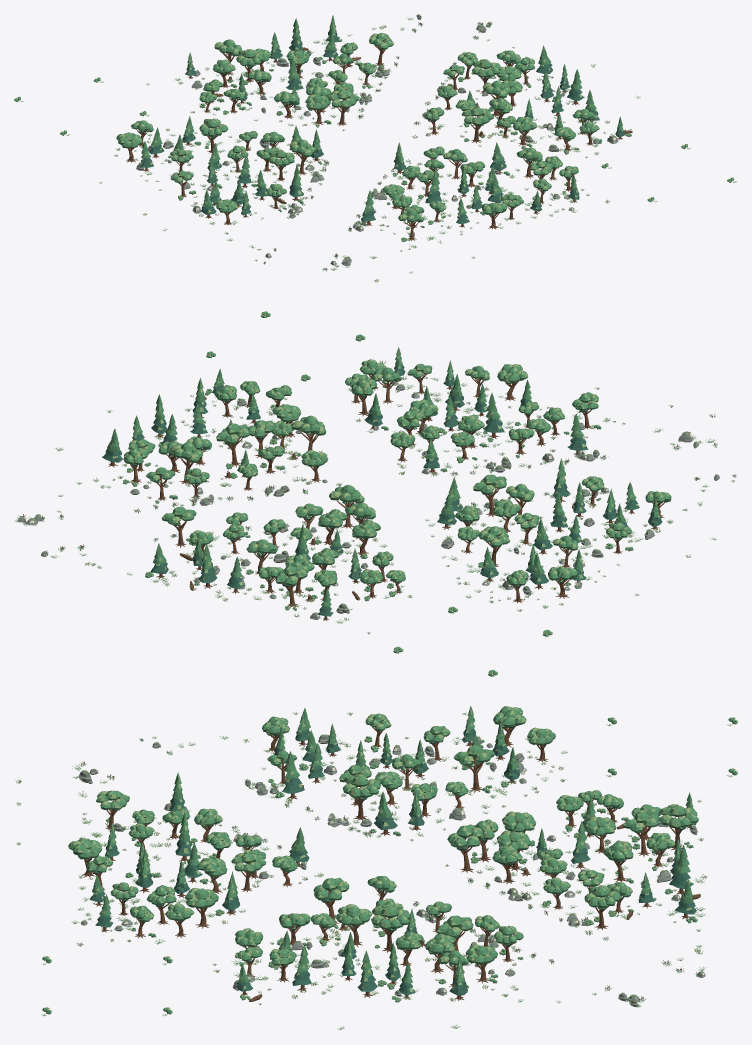
Rendered from foliage.glb.
The picture shows the model from 3 angles, top to bottom: view 1: azimuth 30°, elevation 25°; view 2: azimuth 150°, elevation 25°; view 3: azimuth 270°, elevation 25°; orthographic projection. The views are drawn at different scales.
Parts seen in each view (by area): view 1: tree_sage_elder / mesh.008, tree_sage_elder / mesh.021, tree_sage_elder / mesh.009, tree_sage_elder / mesh.006; view 2: tree_sage_elder / mesh.022, tree_sage_elder / mesh.021, tree_sage_elder / mesh.014, tree_sage_elder / mesh.011, tree_sage_elder / mesh.008; view 3: tree_sage_elder / mesh.022, tree_sage_elder / mesh.014, tree_sage_elder / mesh.011, tree_sage_elder / mesh.021, tree_sage_elder / mesh.010, tree_sage_elder / mesh.006, tree_sage_elder / mesh.008, tree_jade_canopy / mesh.014, tree_jade_canopy / mesh.022, tree_sage_elder / mesh.016, tree_windswept_oak / mesh.010, tree_sage_elder / mesh.023 (+14 smaller).
Part boxes in pixels (x1=…): tree_sage_elder / mesh.008: x1=461, y1=106, x2=494, y2=143; tree_sage_elder / mesh.021: x1=328, y1=90, x2=359, y2=125; tree_sage_elder / mesh.009: x1=471, y1=59, x2=500, y2=93; tree_sage_elder / mesh.006: x1=199, y1=118, x2=228, y2=153; tree_sage_elder / mesh.022: x1=216, y1=423, x2=249, y2=467; tree_sage_elder / mesh.021: x1=329, y1=484, x2=364, y2=528; tree_sage_elder / mesh.014: x1=275, y1=565, x2=307, y2=607; tree_sage_elder / mesh.011: x1=473, y1=474, x2=506, y2=517; tree_sage_elder / mesh.008: x1=291, y1=415, x2=326, y2=450; tree_sage_elder / mesh.022: x1=371, y1=904, x2=410, y2=952; tree_sage_elder / mesh.014: x1=659, y1=804, x2=698, y2=850; tree_sage_elder / mesh.011: x1=342, y1=774, x2=381, y2=820; tree_sage_elder / mesh.021: x1=447, y1=824, x2=482, y2=872; tree_sage_elder / mesh.010: x1=584, y1=885, x2=621, y2=929; tree_sage_elder / mesh.006: x1=454, y1=745, x2=494, y2=792; tree_sage_elder / mesh.008: x1=313, y1=877, x2=349, y2=925; tree_jade_canopy / mesh.014: x1=336, y1=904, x2=372, y2=947; tree_jade_canopy / mesh.022: x1=185, y1=887, x2=218, y2=928; tree_sage_elder / mesh.016: x1=623, y1=812, x2=660, y2=857; tree_windswept_oak / mesh.010: x1=493, y1=706, x2=526, y2=747; tree_sage_elder / mesh.023: x1=231, y1=853, x2=266, y2=892.
Bounding box in the file's own units: 212 × 15.53 × 204.
